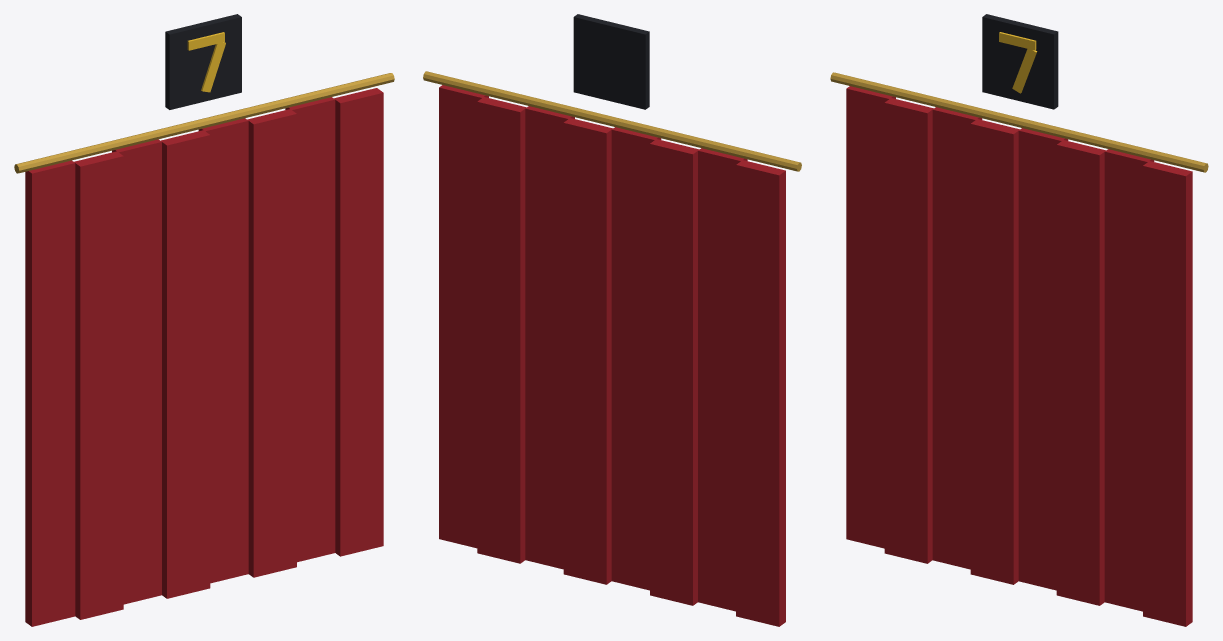
Rendered from lane7_curtain.glb.
3 renders of one model, left to right at view 1: azimuth 30°, elevation 25°; view 2: azimuth 150°, elevation 25°; view 3: azimuth 330°, elevation 25°, orthographic.
Visible parts, largest first — view 1: folds_curtain_red, sign_sign_board, rail_curtain_rail, seven_sign_letters; view 2: folds_curtain_red, sign_sign_board, rail_curtain_rail; view 3: folds_curtain_red, sign_sign_board, rail_curtain_rail.
Boxes of the visible parts, box(x1,y1,x2,y2) form: folds_curtain_red: box(25, 88, 383, 626); sign_sign_board: box(165, 14, 241, 109); rail_curtain_rail: box(14, 73, 394, 173); seven_sign_letters: box(201, 42, 225, 92); folds_curtain_red: box(439, 85, 785, 626); sign_sign_board: box(573, 14, 649, 109); rail_curtain_rail: box(423, 71, 801, 171); folds_curtain_red: box(846, 86, 1192, 626); sign_sign_board: box(982, 14, 1058, 109); rail_curtain_rail: box(830, 72, 1208, 172).
Size of the model in its own units: 2.6 by 3.7 by 0.14.
